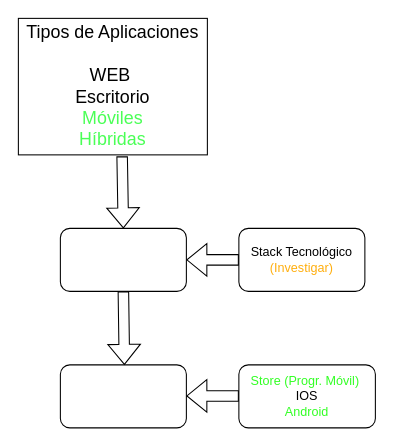
Image size: 394x446. Some labels were removed from this diagram. Each missing label, with the box of its shape:
Despliegue: (59, 364, 186, 428)
Monolítica Distribuida: (59, 227, 186, 291)
